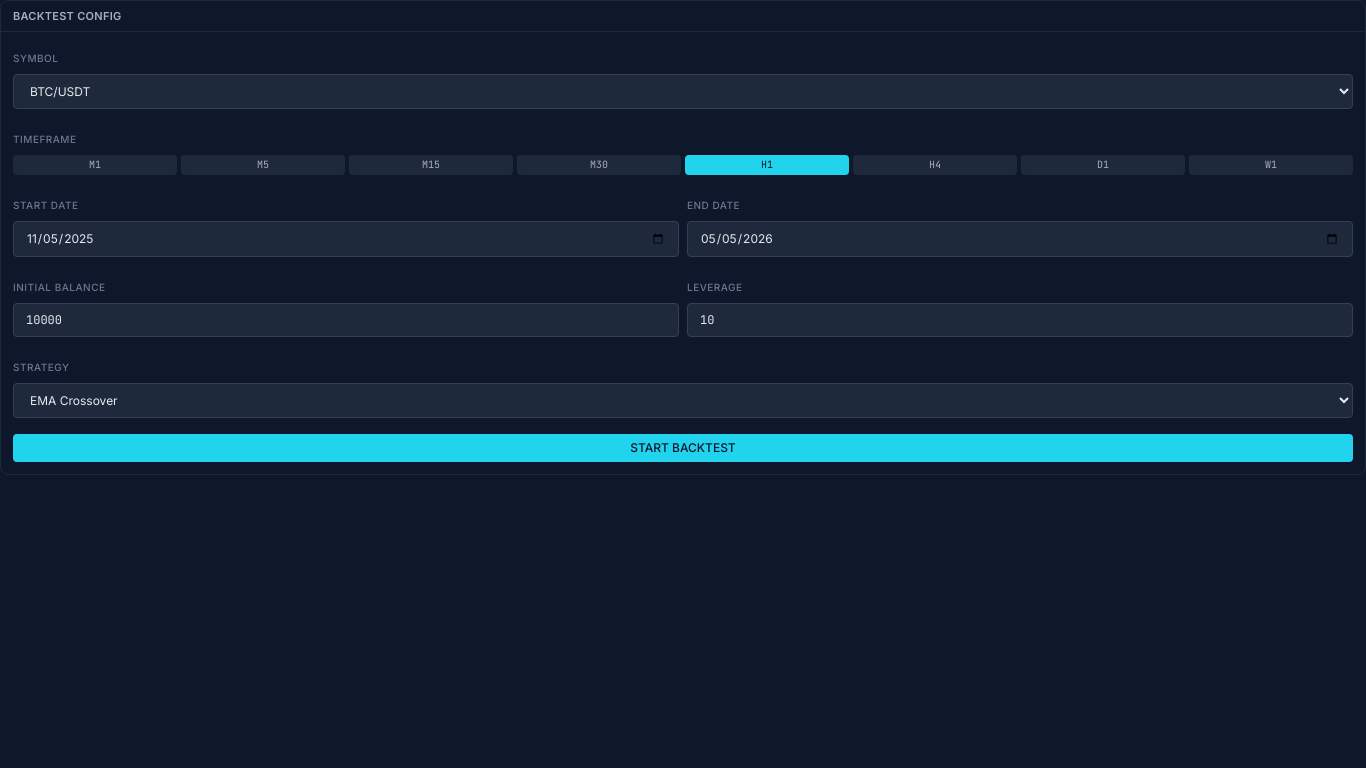
Test: BacktestConfig › parameter inputs render correctly for Integer and Decimal types
The width and height of the screenshot is (1366, 768).
Select "EMA Crossover" in the dropdown below "Strategy": (683, 400) left=13, top=383, right=1353, bottom=418
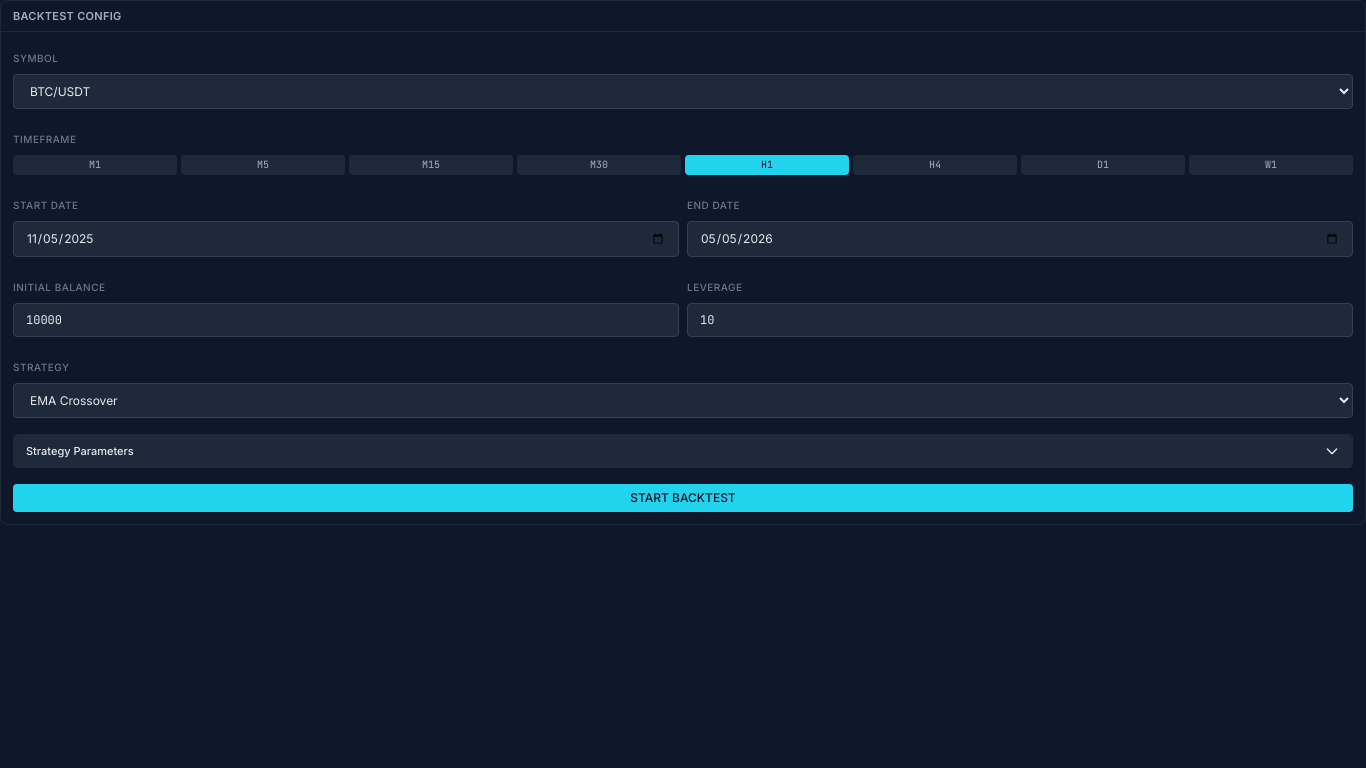
Expected: the text "Strategy Parameters" is shown, left=26, top=444, right=134, bottom=458
Click the button "Strategy Parameters": (80, 451) left=14, top=435, right=1352, bottom=467
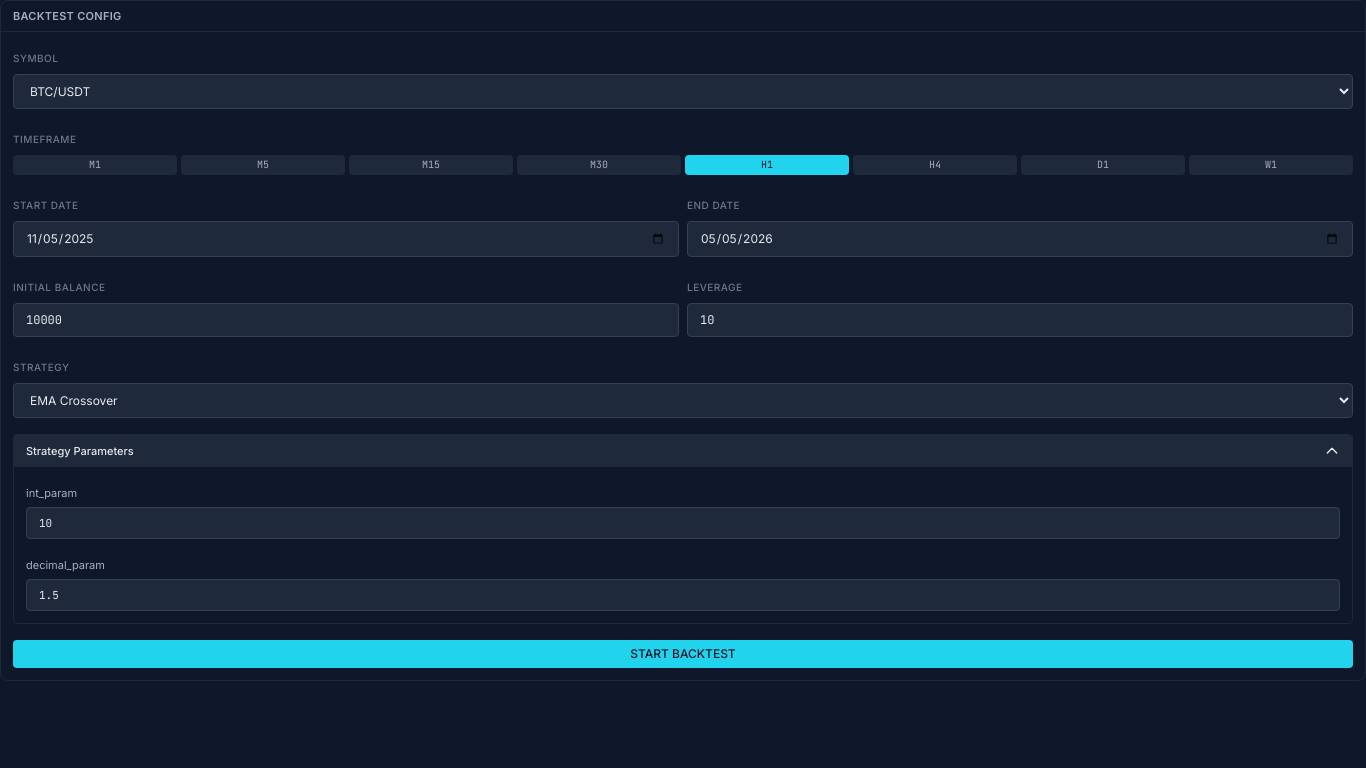
Expected: the text "int_param" is shown, left=26, top=486, right=77, bottom=500
Expected: the text "decimal_param" is shown, left=26, top=558, right=105, bottom=572
